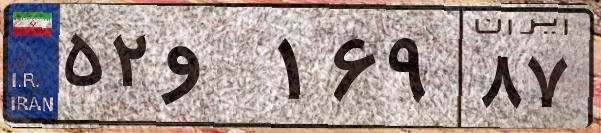1: (270, 28, 330, 110)
2: (110, 28, 158, 98)
5: (57, 26, 110, 100)
6: (330, 28, 385, 110)
7: (525, 38, 570, 115)
8: (475, 38, 525, 113)
9: (385, 28, 445, 110)
و: (158, 20, 270, 120)
